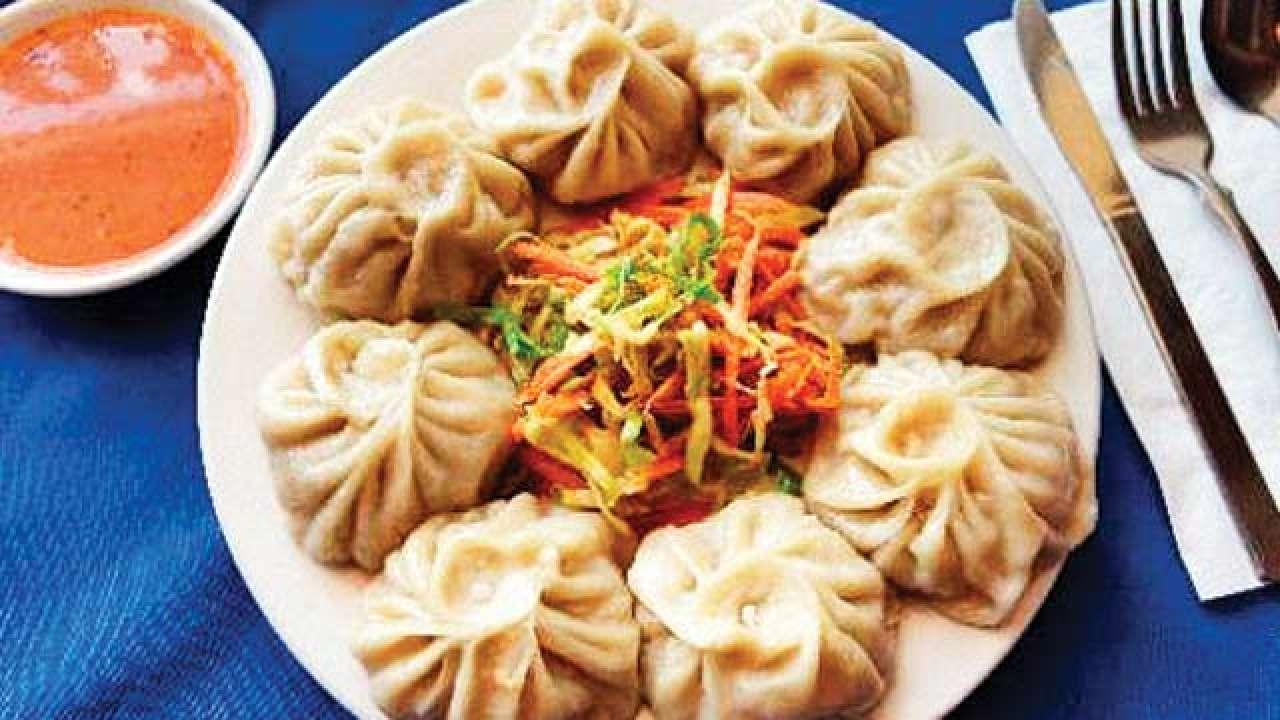momos: (802, 350, 1095, 624), (355, 492, 640, 716), (258, 320, 515, 561), (802, 138, 1065, 366), (628, 492, 892, 718), (272, 100, 535, 321), (468, 0, 698, 204), (688, 5, 910, 201)
